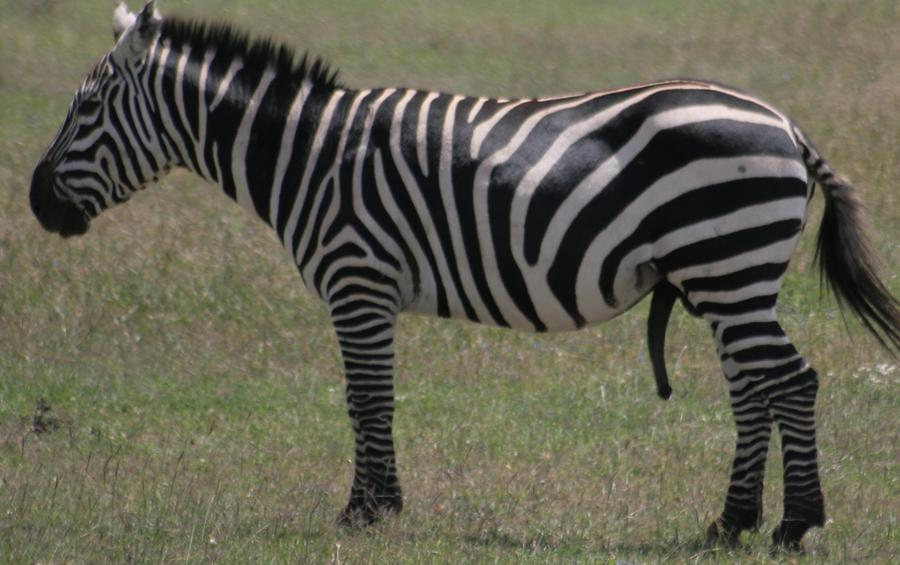zebra_plains: (276, 69, 787, 326)
